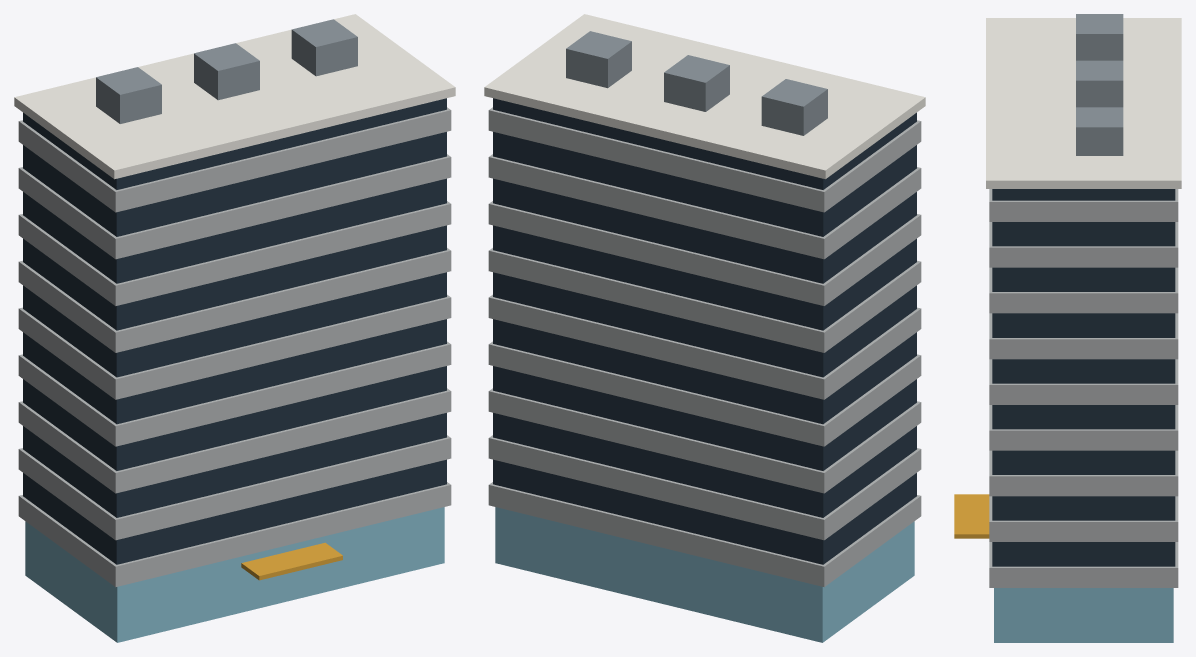
Rendered from tower_2.glb.
The picture shows the model from 3 angles, left to right: view 1: azimuth 30°, elevation 25°; view 2: azimuth 150°, elevation 25°; view 3: azimuth 270°, elevation 25°; orthographic projection. The views are drawn at different scales.
Visible parts, largest first — view 1: Cube.001; view 2: Cube.001; view 3: Cube.001.
Part boxes in pixels (box(x1,y1,x2,y2)): Cube.001: box(14, 14, 455, 642); Cube.001: box(484, 14, 925, 642); Cube.001: box(954, 14, 1181, 642).
Size of the model in its own units: 24.4 by 34.6 by 14.4.
